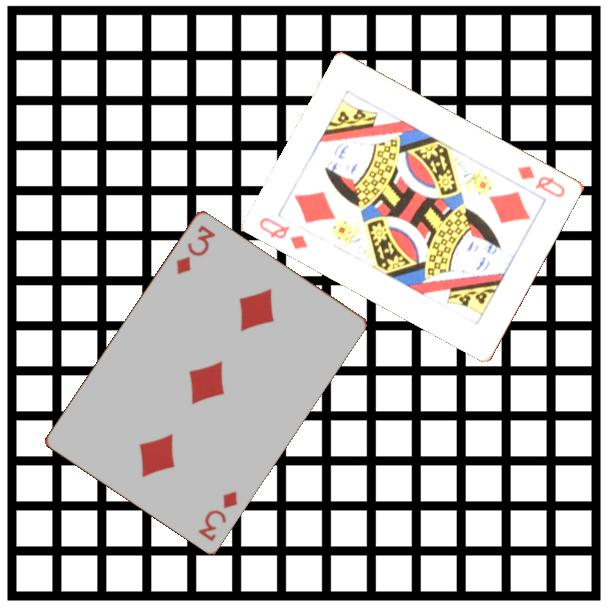d03: (172, 221, 218, 277), (195, 487, 240, 544)
d12: (256, 213, 311, 252), (514, 162, 569, 200)
